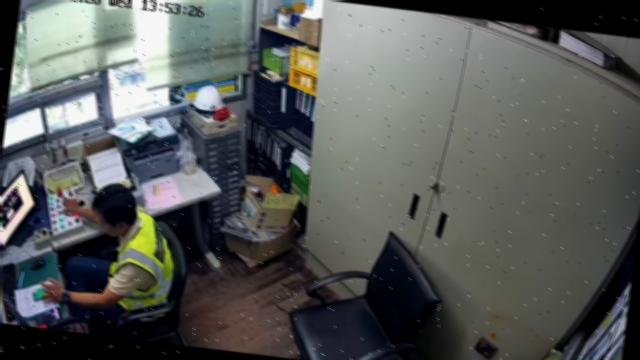Head: (91, 183, 139, 237)
People: (41, 183, 175, 326)
Phone: (32, 305, 63, 327), (31, 289, 44, 300)
